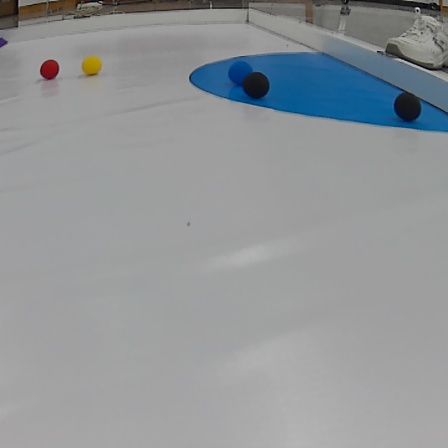black: (390, 88, 428, 124), (241, 75, 273, 101)
blue: (229, 58, 252, 84)
blue_base: (180, 50, 448, 134)
red: (41, 59, 62, 80)
yellow: (84, 55, 104, 77)
